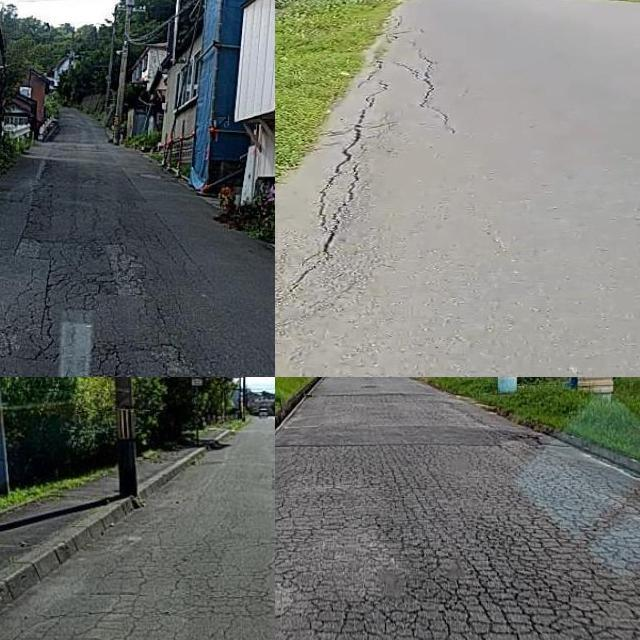Pinggir: (275, 22, 451, 297)
Retak Buaya: (275, 434, 640, 640), (0, 200, 199, 377), (49, 544, 250, 640)
